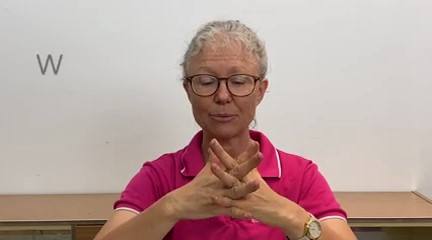W: (160, 128, 295, 228)
